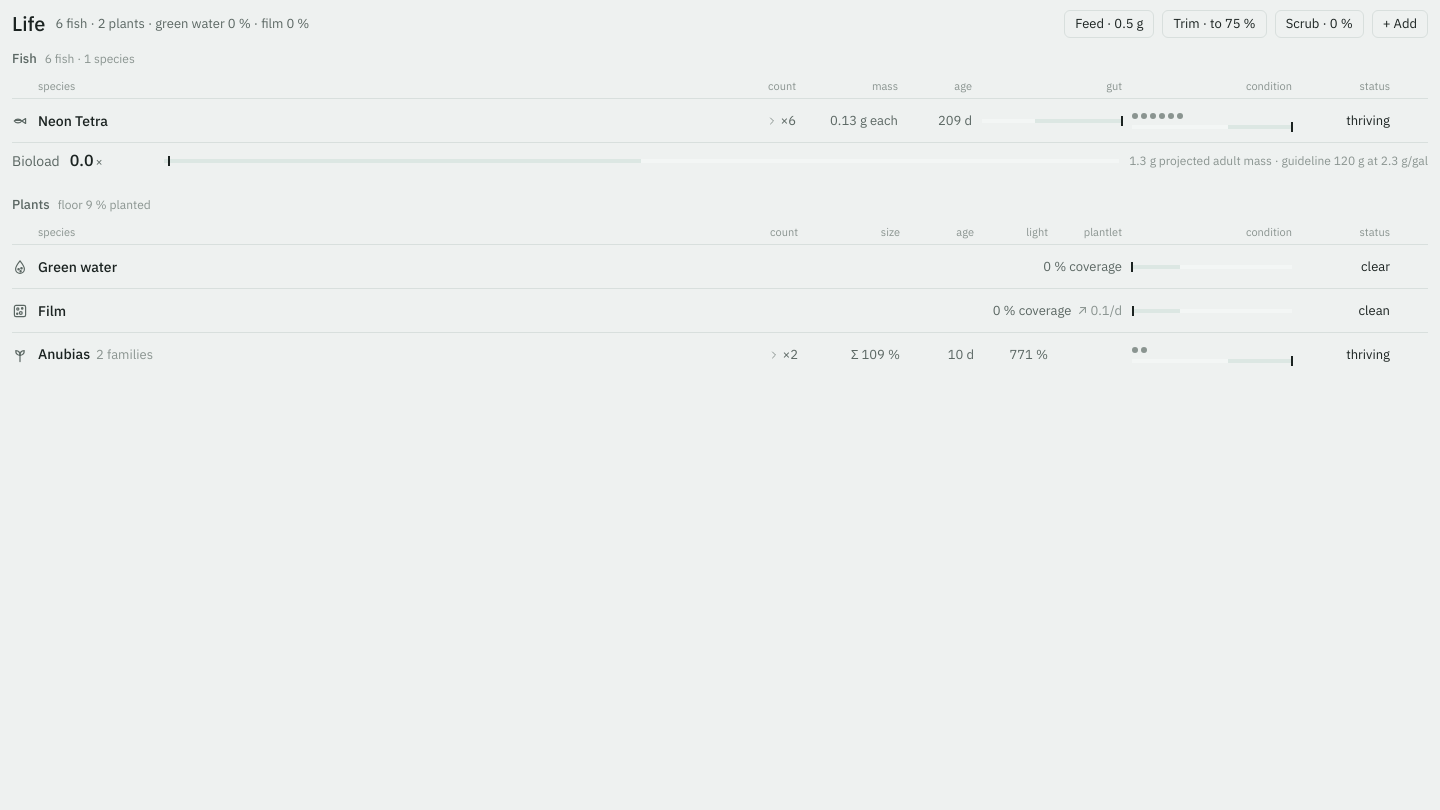
Scenario: LifeSection › opens the Film ledger on the organism: its condition, coverage and light, and no store row
Click the button named "Film — clean".
click(720, 310)  # box [12,289,1428,332]
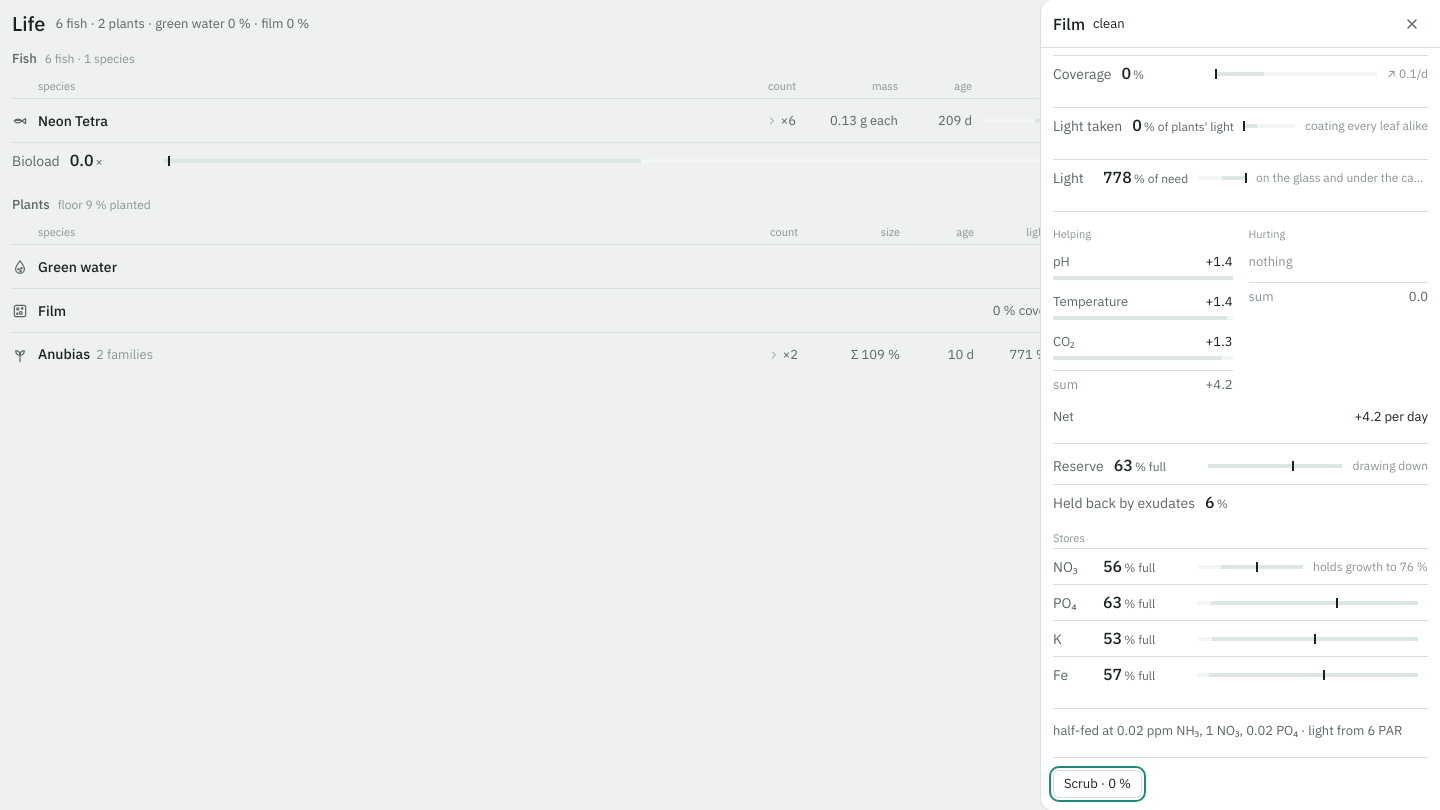
Expected: the text "Coverage" is shown, [1053,64,1111,84]
Expected: the text "% of need" is shown, [1134,170,1188,186]
